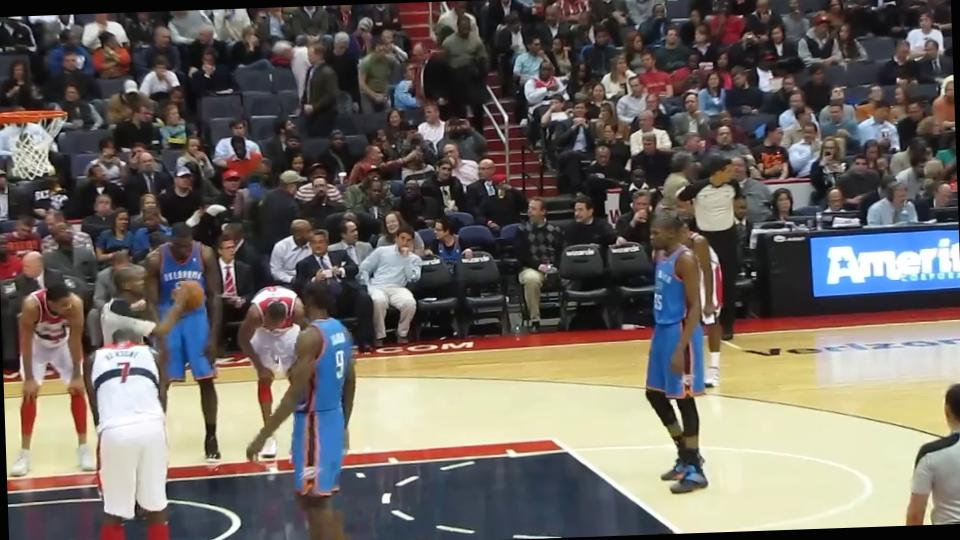hoop: (0, 105, 71, 126)
